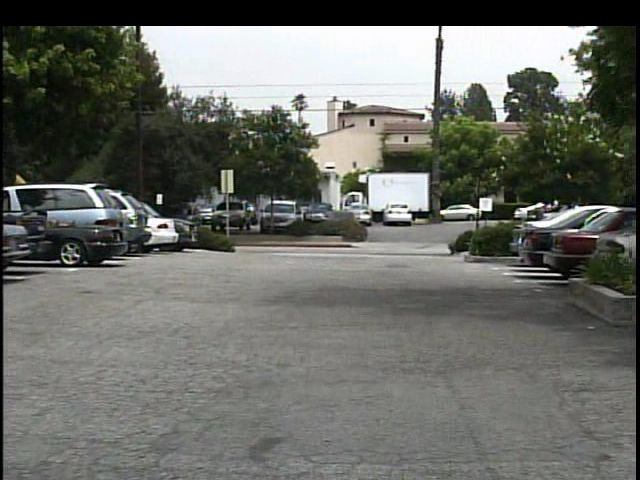person: (175, 204, 195, 242)
